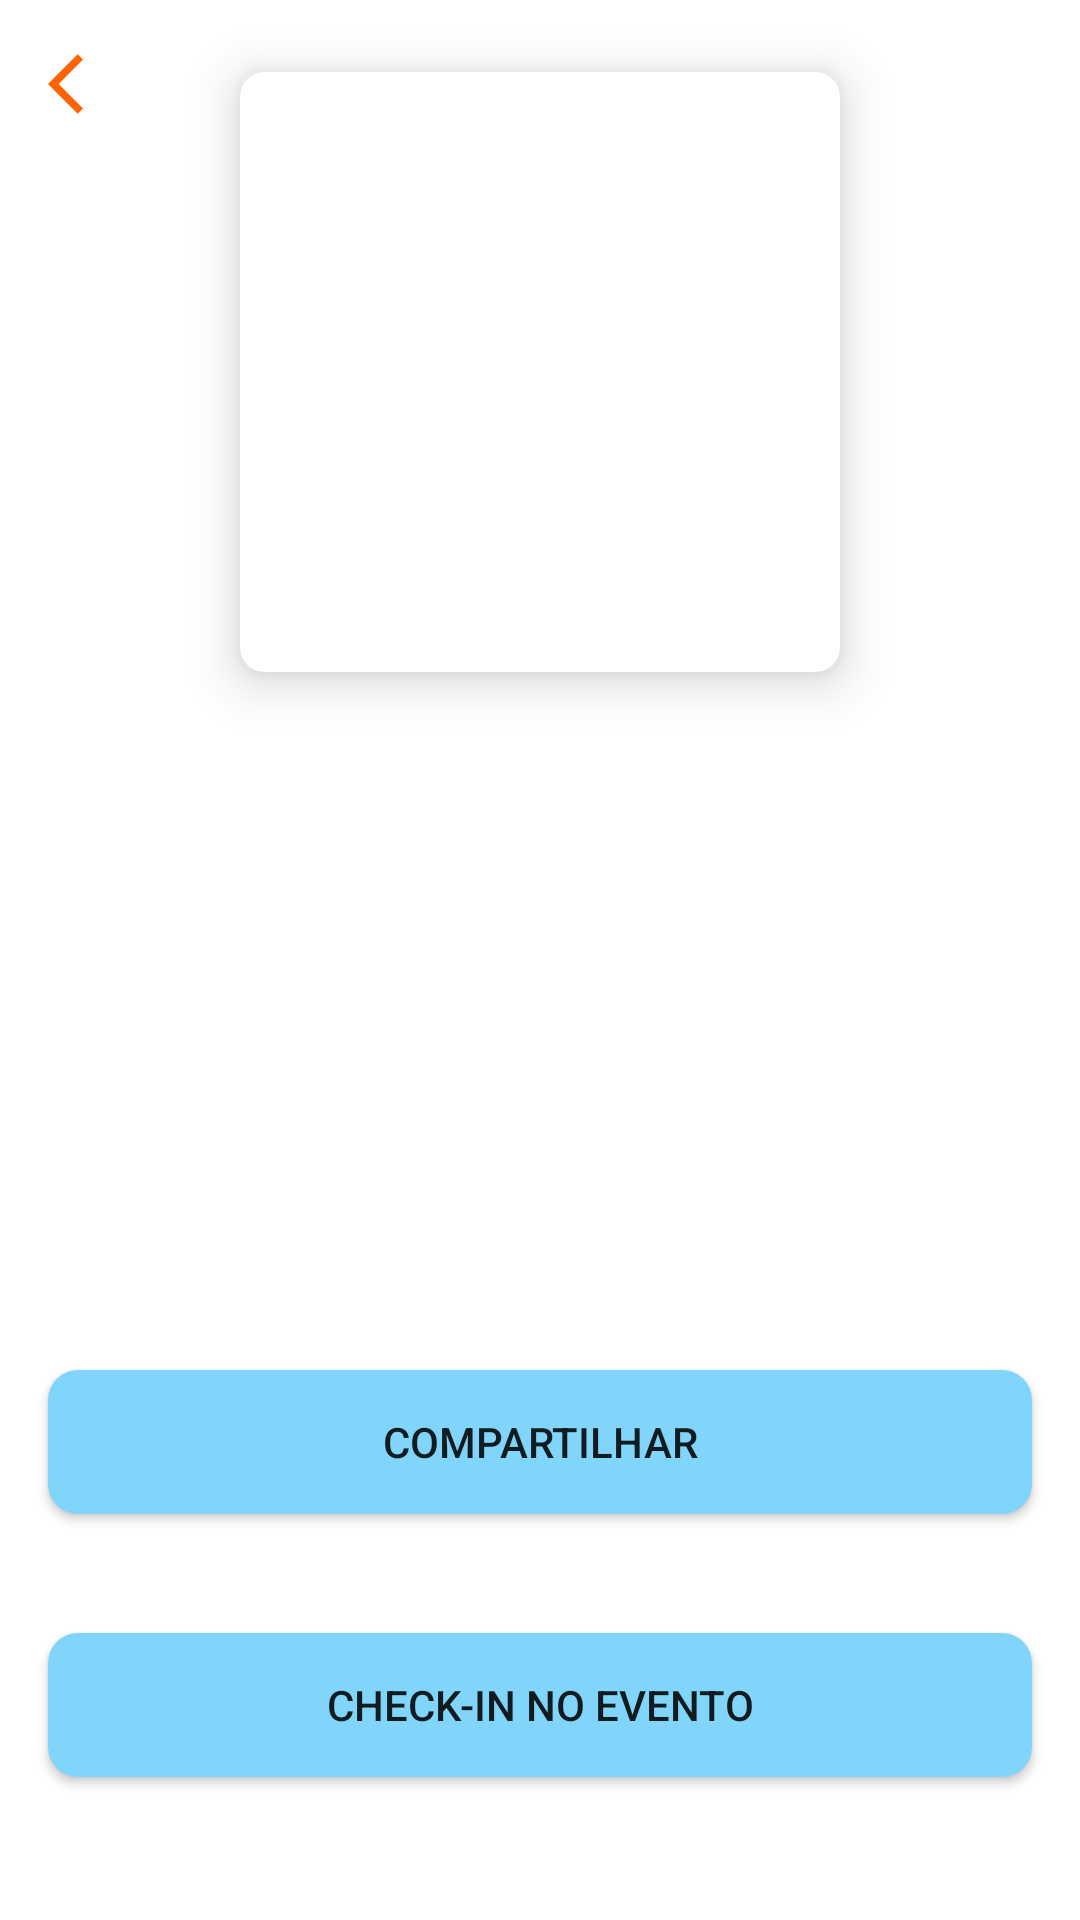

Screen size 1080×1920. Icon name, then its center in pixels as point (x, y):
back arrow: point (65, 84)
